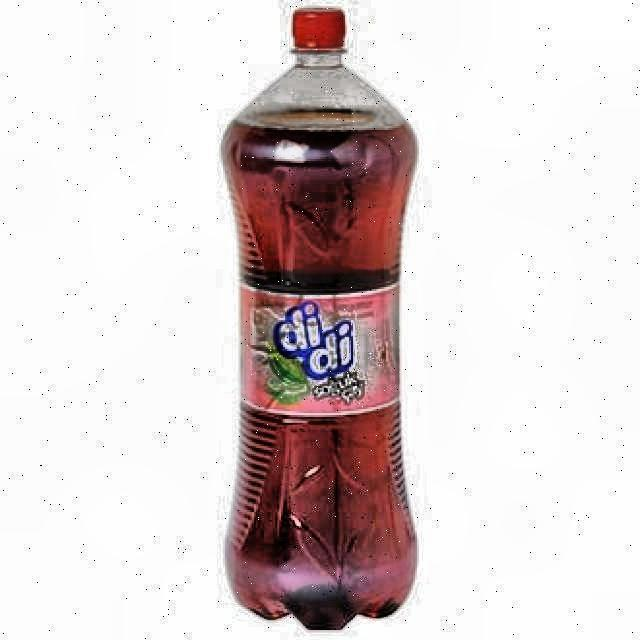plastic: (219, 3, 420, 634)
